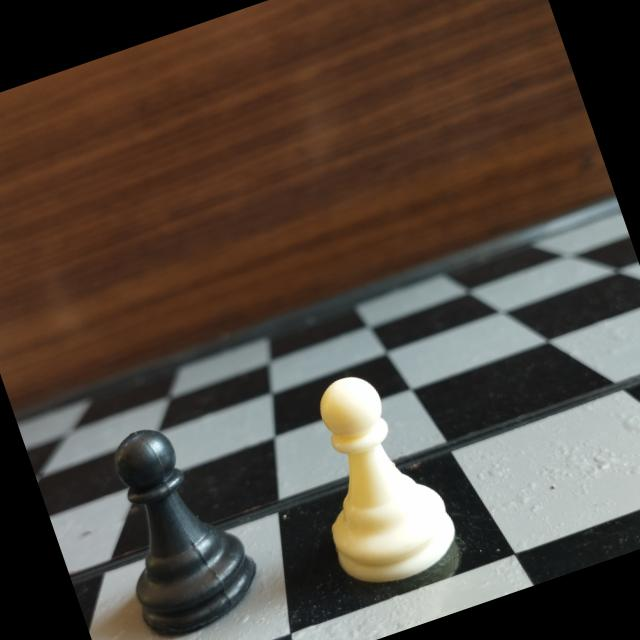Black Pawn: (77, 404, 273, 640)
White Pawn: (272, 349, 474, 602)
